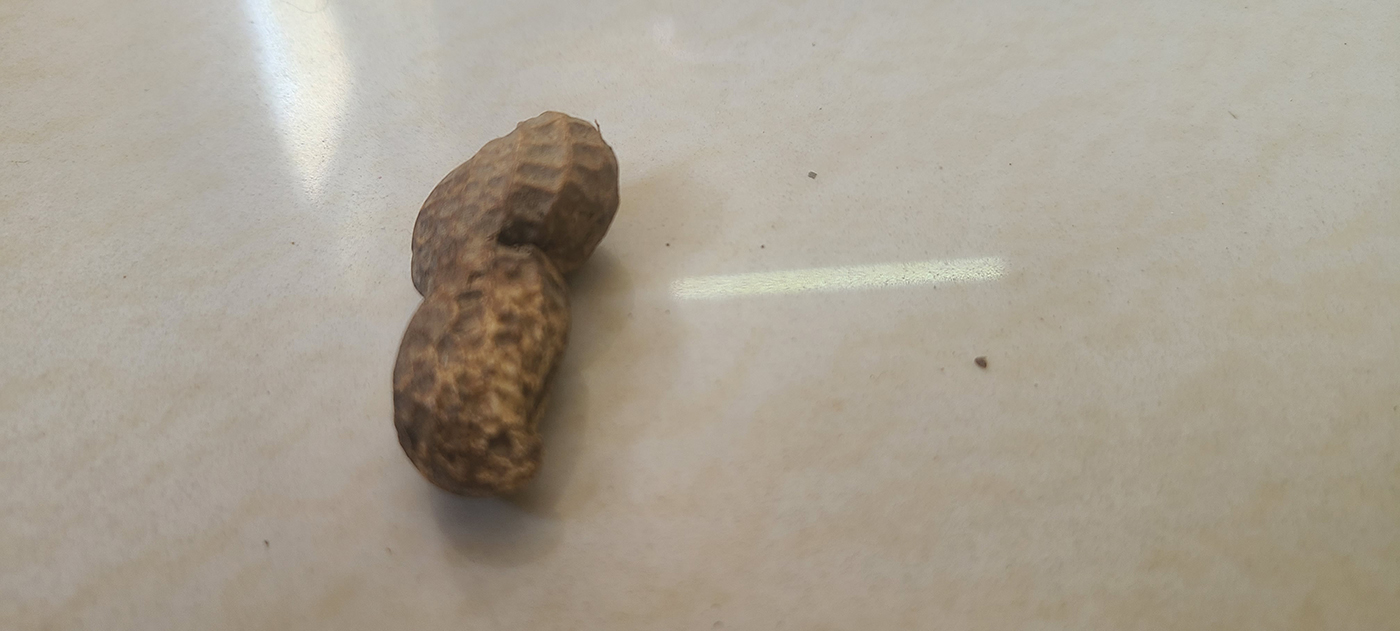l: (390, 112, 619, 501)
